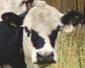muzzles: (29, 49, 57, 67)
